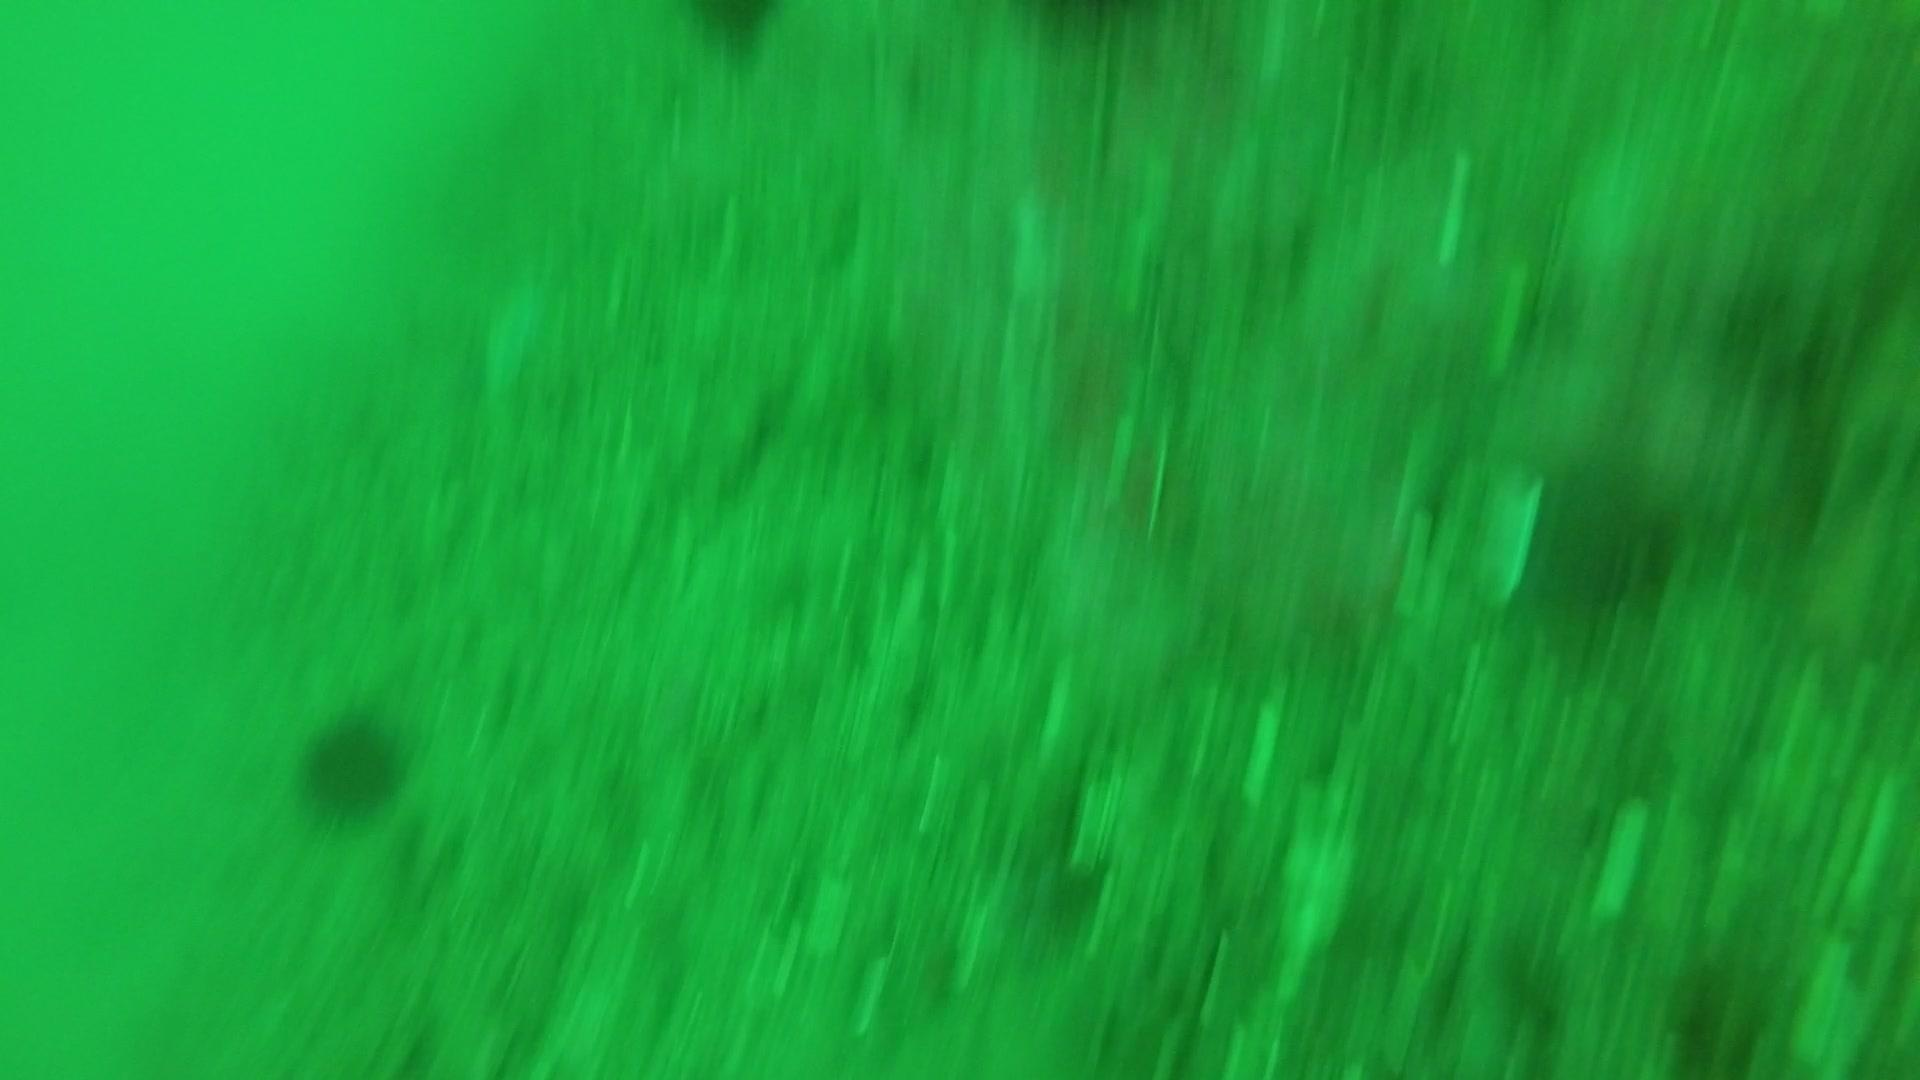echinus: (291, 704, 414, 825), (661, 1, 802, 69)
